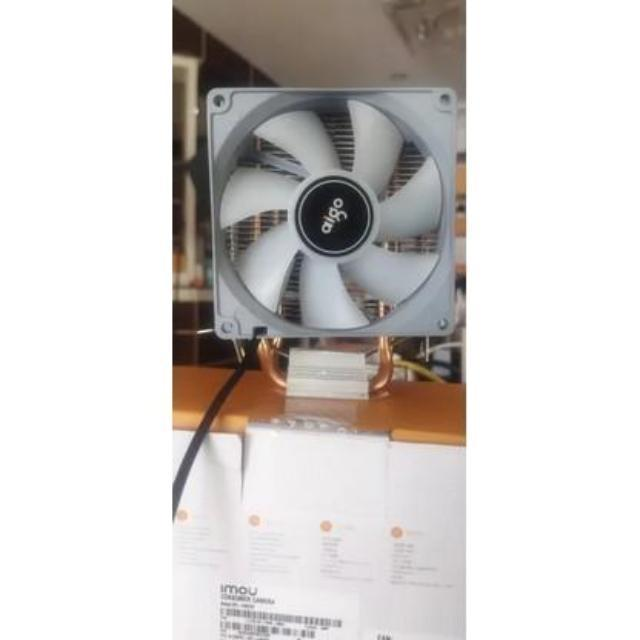CPU_Fan: (202, 80, 458, 408)
